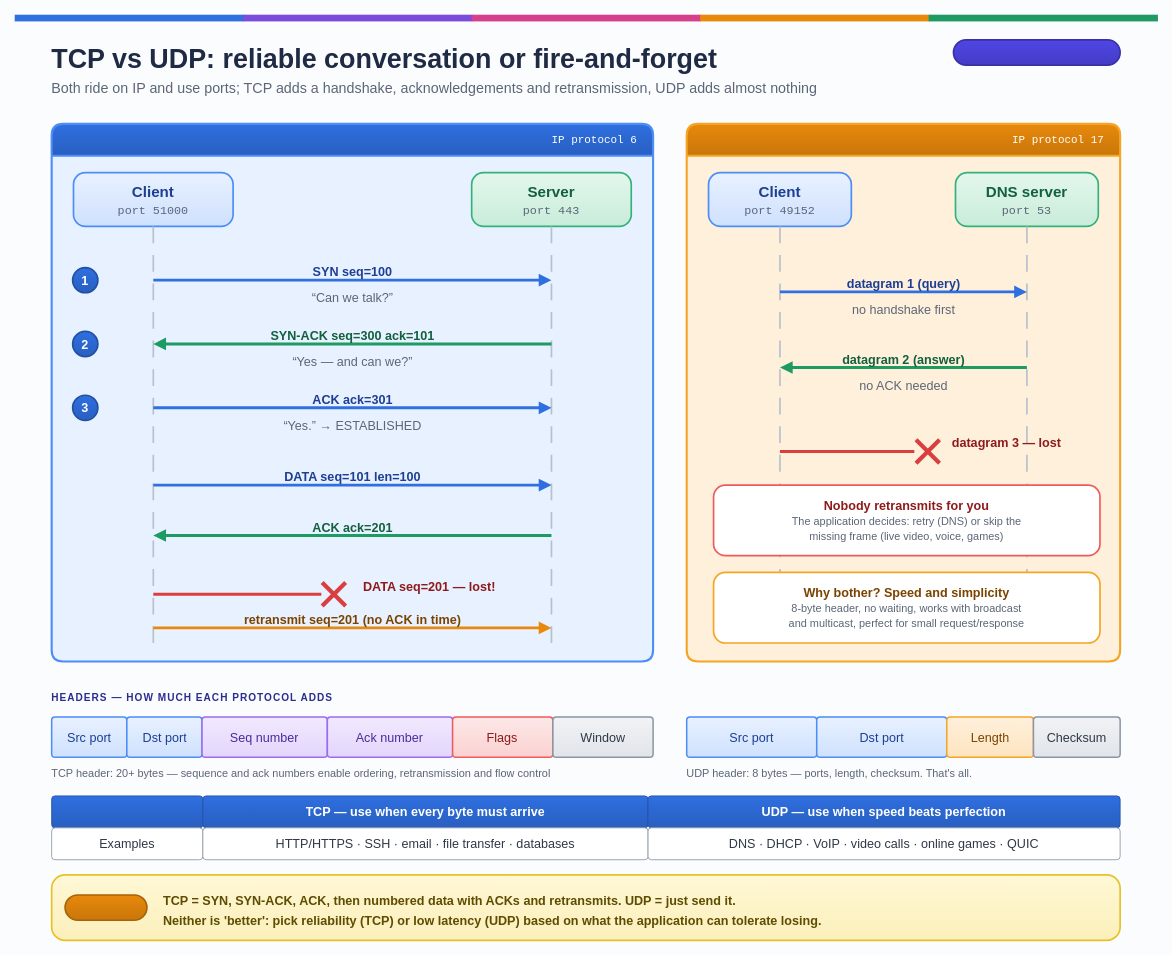
Some shapes in this 1172 by 955 pixel diagram are drawn without their labels. Each missing label, with the box of its shape:
REMEMBER: (64, 894, 147, 921)
STAGE 09 · TRANSPORT: (952, 39, 1121, 66)
TCP · connection-oriented · reliable: (50, 122, 654, 662)
UDP · connectionless · best effort: (685, 122, 1121, 662)
